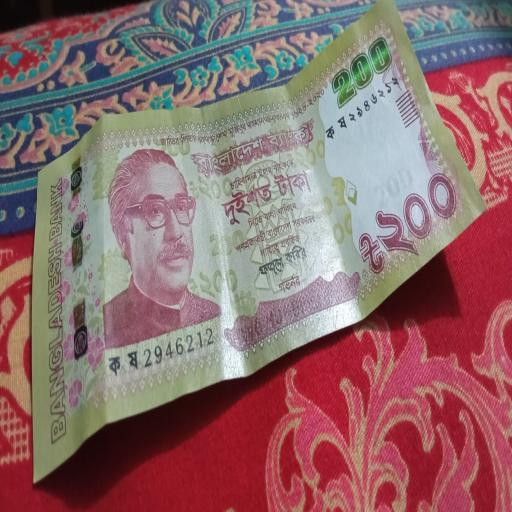200taka: (34, 0, 484, 485)
